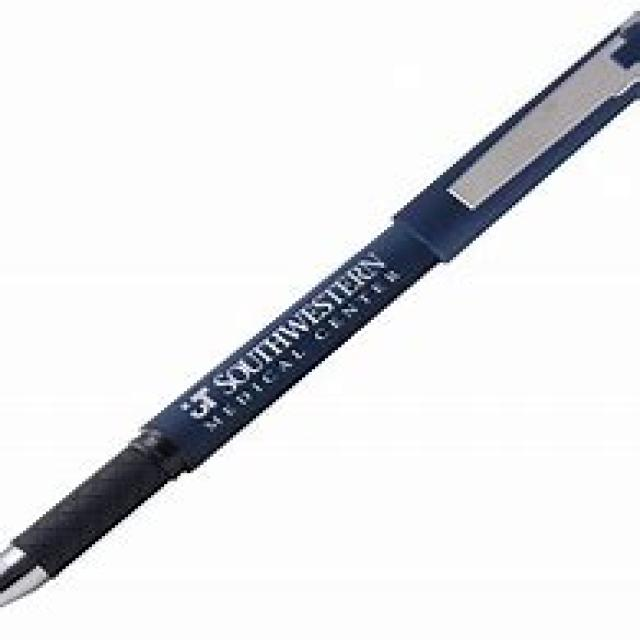pen: (0, 9, 640, 606)
